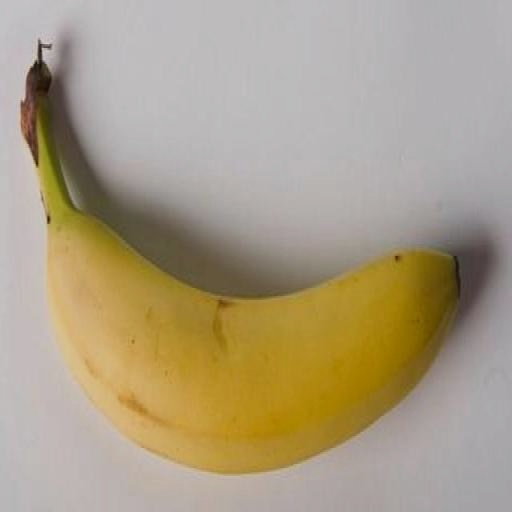fruit: (21, 47, 458, 472)
